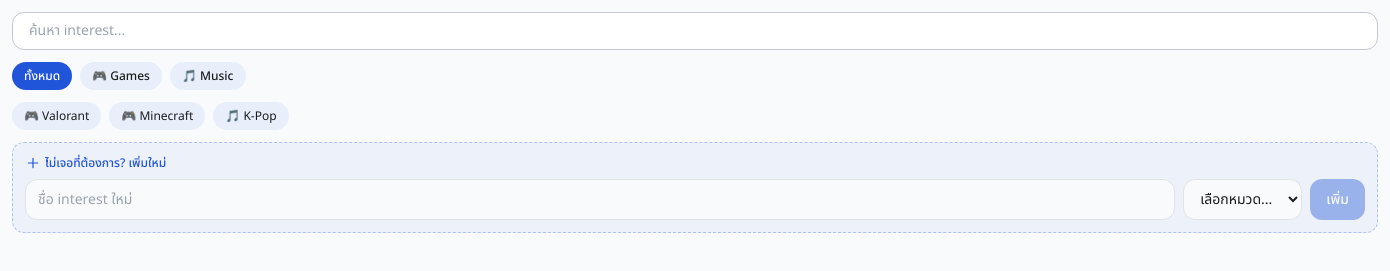
it: InterestPicker › does not offer to create something that already exists
This screenshot has width=1390, height=271.
Click the button "🎮 Games" at (121, 76), box top-left (80, 62), bottom-right (162, 90)
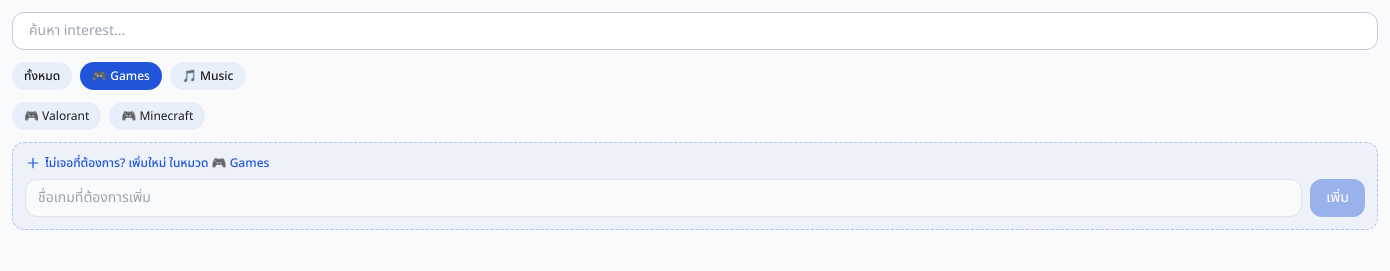
Type "valorant" into the field with placeholder "ชื่อเกมที่ต้องการเพิ่ม" at (664, 198), box top-left (25, 179), bottom-right (1302, 217)
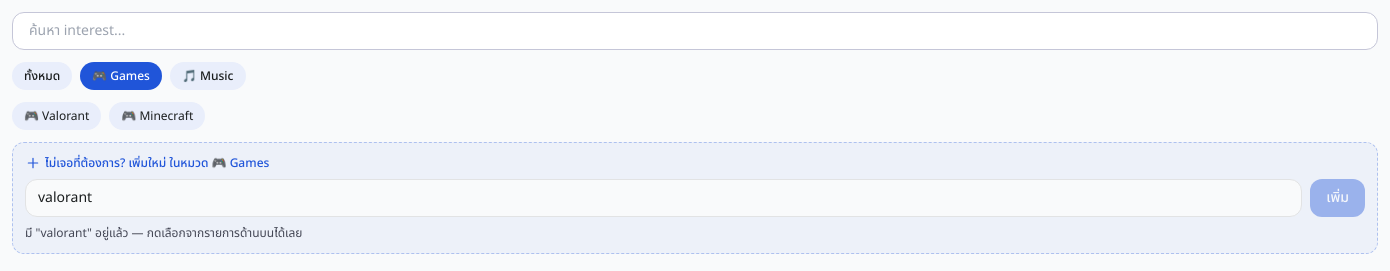
Check: the button "เพิ่ม" is disabled, box top-left (1310, 179), bottom-right (1365, 217)
Check: the text "มี \"valorant\" อยู่แล้ว — กดเลือกจากรายการด้านบนได้เลย" is shown, box top-left (25, 224), bottom-right (302, 242)
